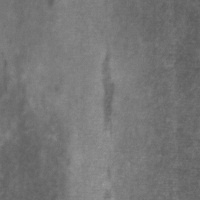inclusion: (1, 78, 70, 199), (98, 46, 121, 137)
